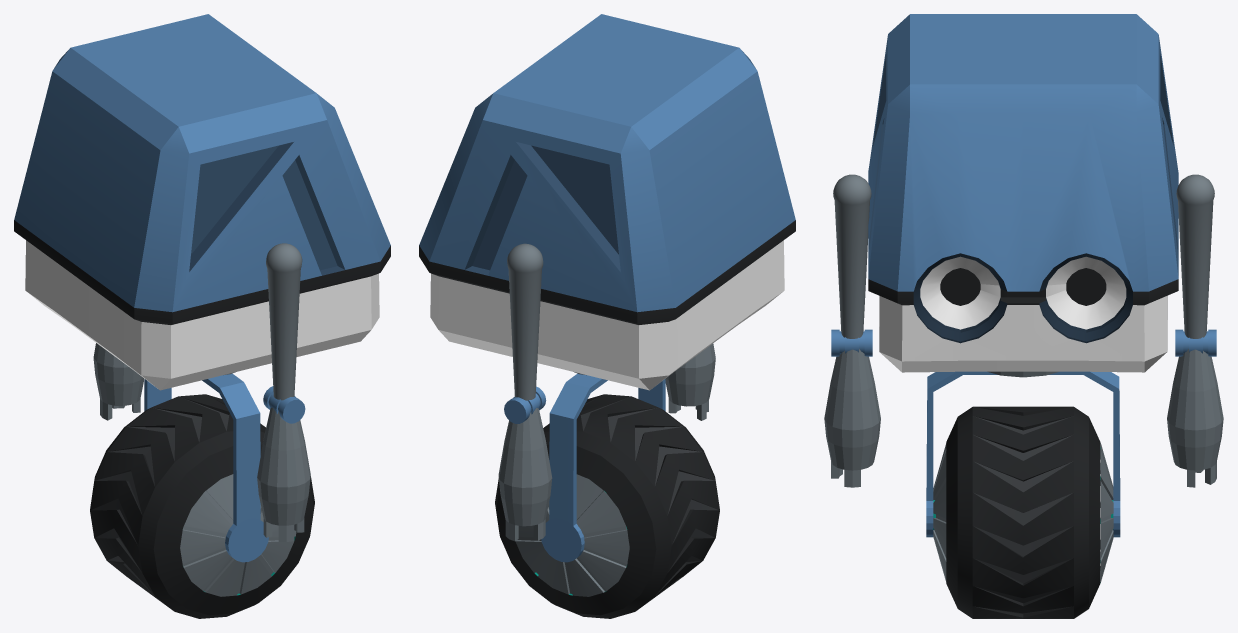
The model's file is robotUV.fbx.
The picture shows the model from 3 angles, left to right: view 1: azimuth 30°, elevation 25°; view 2: azimuth 150°, elevation 25°; view 3: azimuth 270°, elevation 25°; orthographic projection. The views are drawn at different scales.
Visible parts, largest first — view 1: Head, Wheel, Arm.001, Hub, Bracket, Arm; view 2: Head, Wheel, Arm, Hub, Bracket, Arm.001; view 3: Head, Wheel, Arm.001, Arm, Bracket, Hub.
Part boxes in pixels (left/top/right/bottom): Head: left=14, top=14, right=390, bottom=390; Wheel: left=90, top=394, right=314, bottom=618; Arm.001: left=257, top=243, right=310, bottom=541; Hub: left=180, top=474, right=296, bottom=596; Bracket: left=144, top=373, right=268, bottom=562; Arm: left=93, top=343, right=144, bottom=420; Head: left=419, top=14, right=795, bottom=390; Wheel: left=495, top=394, right=719, bottom=618; Arm: left=498, top=243, right=552, bottom=541; Hub: left=515, top=474, right=629, bottom=596; Bracket: left=541, top=373, right=665, bottom=562; Arm.001: left=665, top=343, right=715, bottom=420; Head: left=868, top=14, right=1178, bottom=372; Wheel: left=946, top=406, right=1100, bottom=618; Arm.001: left=824, top=174, right=880, bottom=487; Arm: left=1167, top=174, right=1223, bottom=487; Bracket: left=926, top=371, right=1120, bottom=537; Hub: left=933, top=442, right=1113, bottom=582.
Bounding box in the file's own units: 100 × 198 × 129.
1 material, 1 textured.
